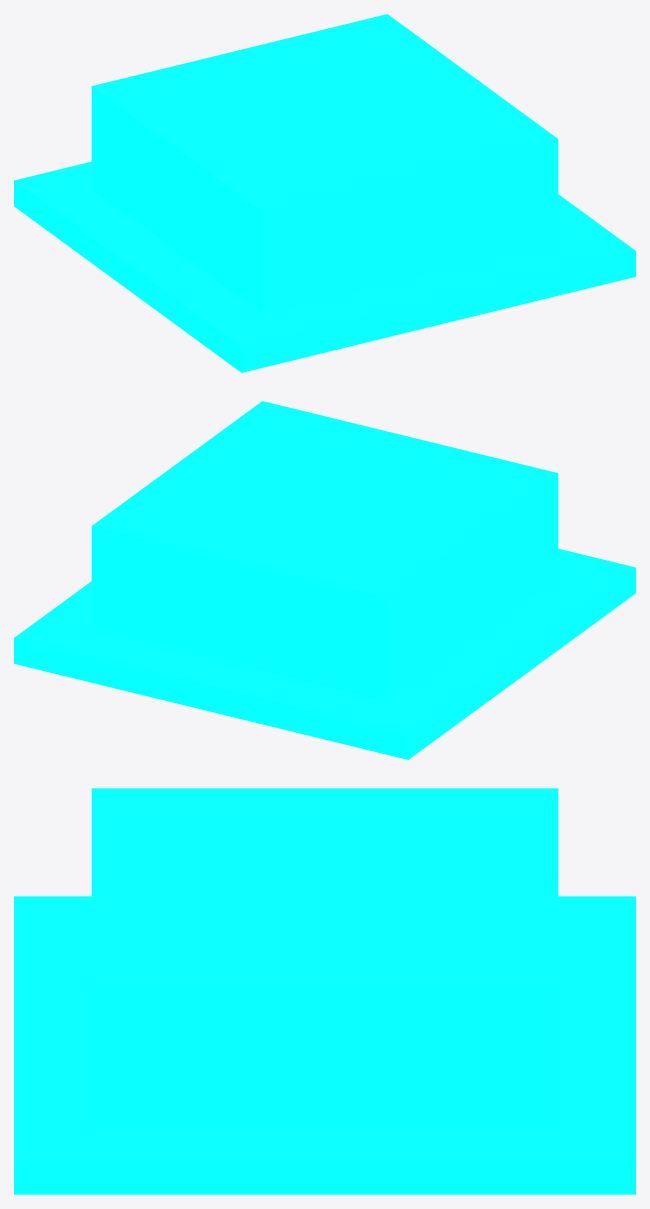
The model's file is roof-skylight.glb.
The picture shows the model from 3 angles, top to bottom: view 1: azimuth 30°, elevation 25°; view 2: azimuth 150°, elevation 25°; view 3: azimuth 270°, elevation 25°; orthographic projection. The views are drawn at different scales.
Visible parts, largest first — view 1: skylight-body; view 2: skylight-body; view 3: skylight-body.
Part boxes in pixels (left/top/right/bottom): skylight-body: left=14, top=14, right=635, bottom=372; skylight-body: left=14, top=401, right=635, bottom=759; skylight-body: left=14, top=788, right=635, bottom=1194.
Size of the model in its own units: 0.8 by 0.25 by 0.8.
